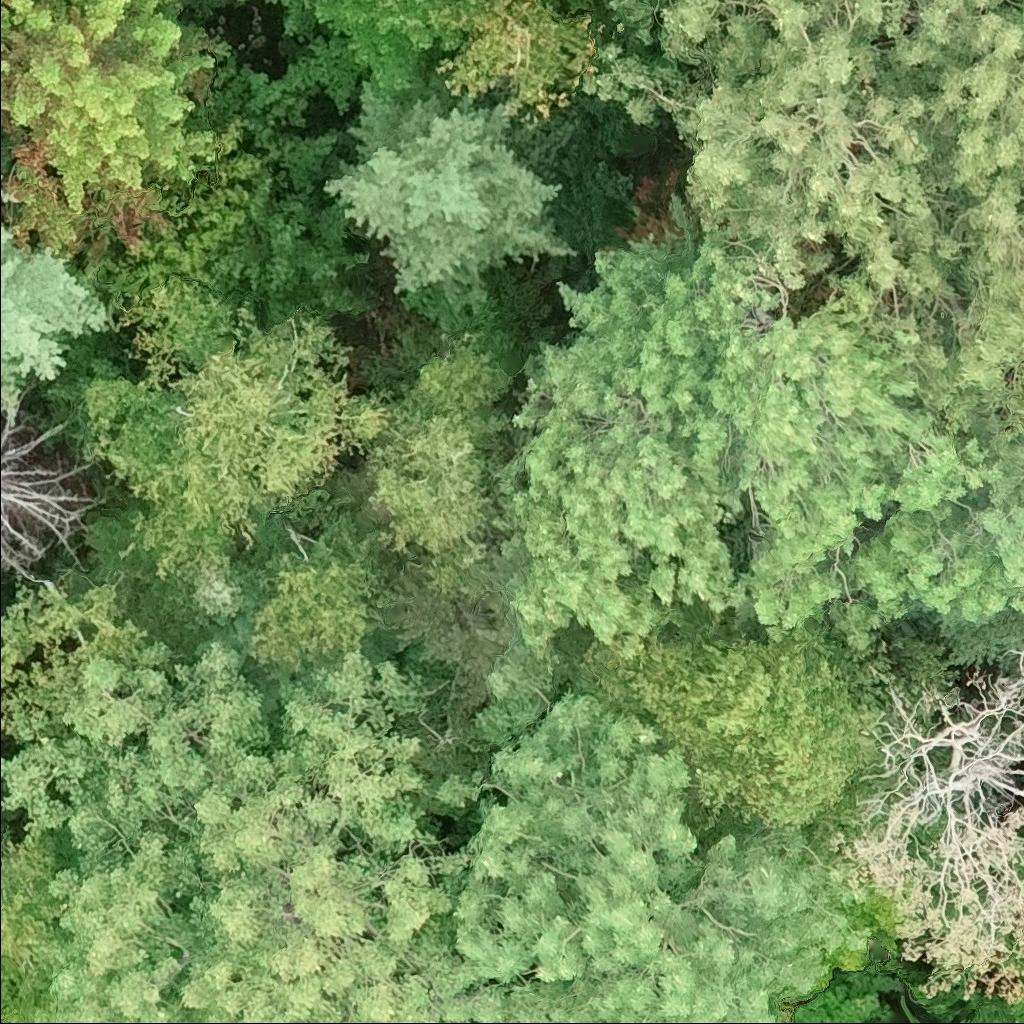crown: (0, 615, 876, 1023), (483, 190, 1023, 657), (589, 0, 1023, 428), (58, 282, 391, 578), (566, 619, 884, 842), (321, 74, 578, 327), (0, 0, 223, 255), (348, 323, 517, 591), (0, 569, 157, 742), (250, 509, 393, 675), (0, 223, 111, 425), (0, 413, 111, 586), (311, 0, 469, 95), (952, 400, 1023, 526), (969, 995, 1023, 1023), (0, 0, 13, 81), (0, 163, 7, 184), (0, 1009, 8, 1023)
